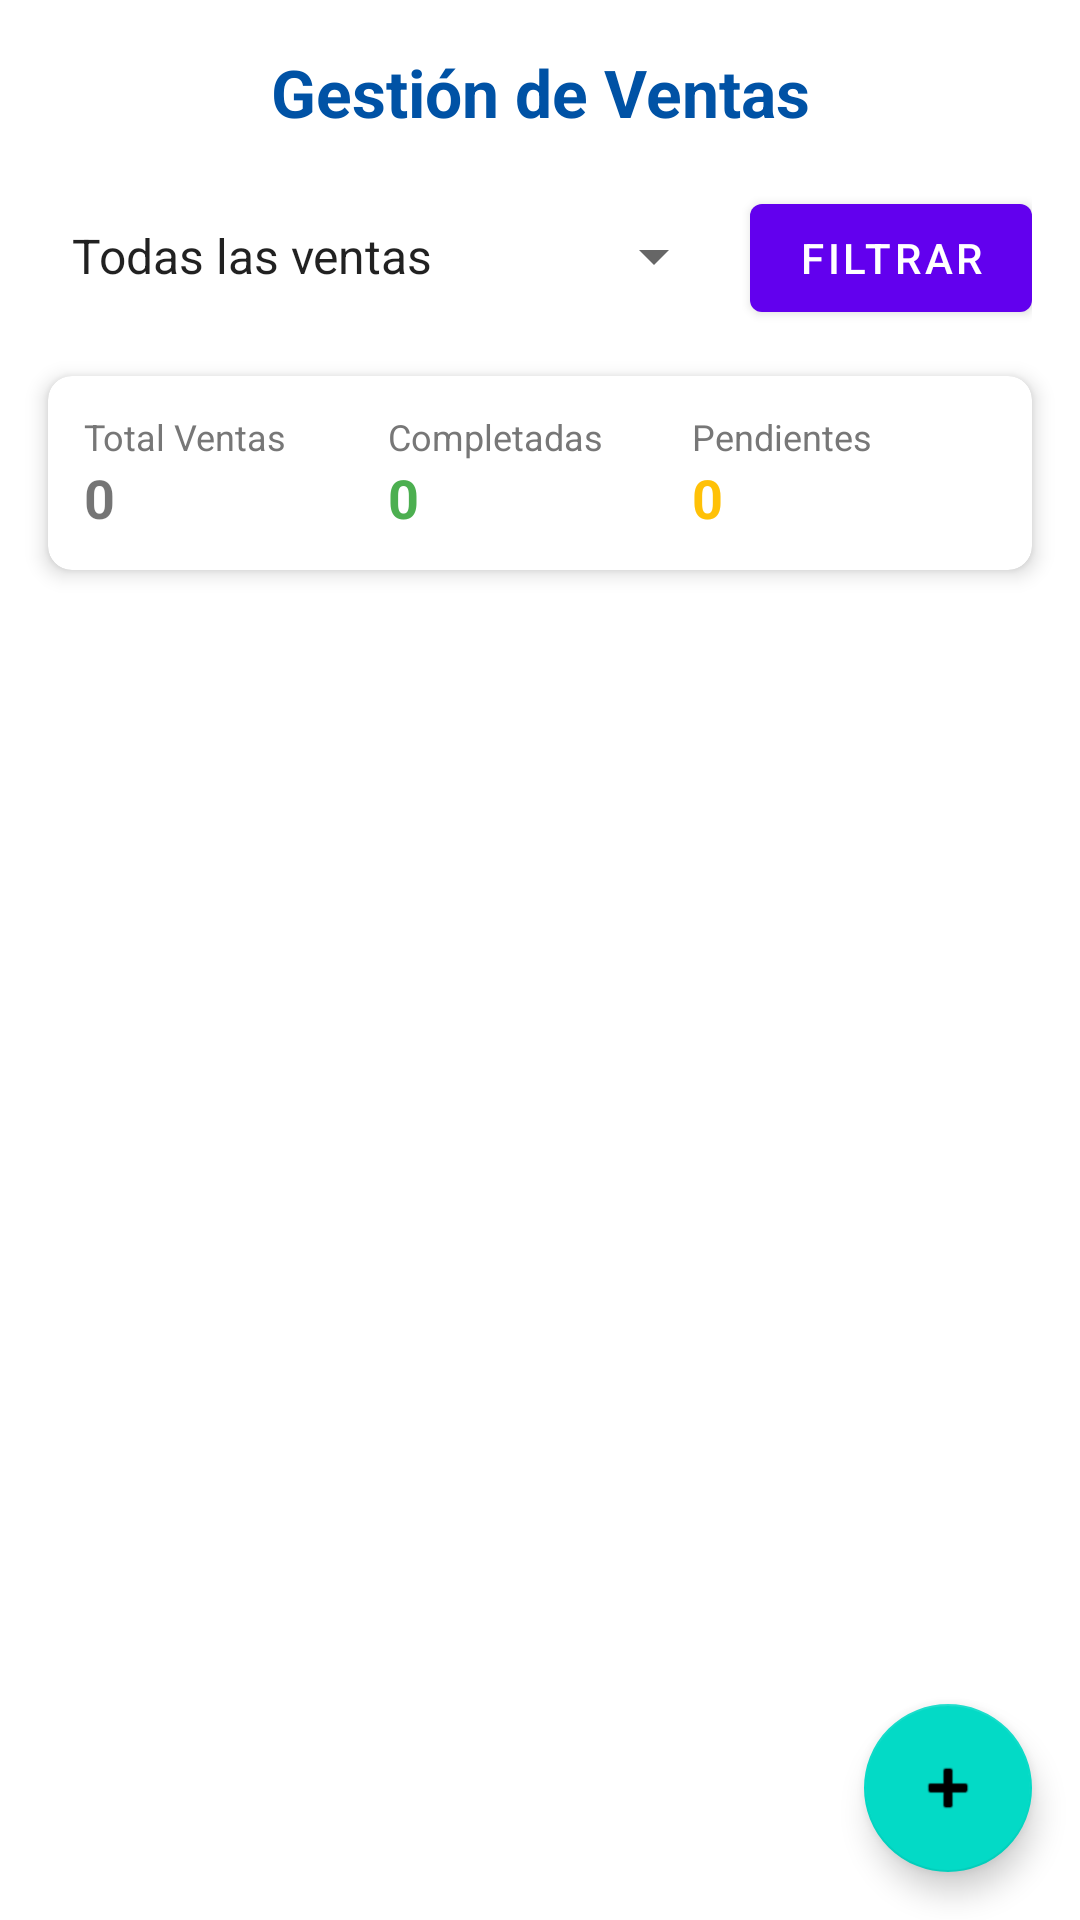

Icons on this 1080 × 1920 Android screen, each with the point to tap as (x=x, y=y):
Agregar venta: (x=948, y=1788)
